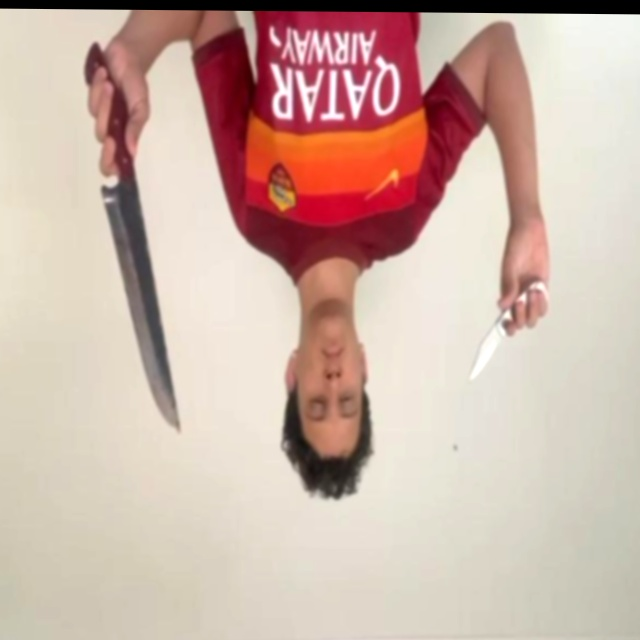Sharp-Object: (99, 186, 183, 437), (470, 325, 501, 386)
